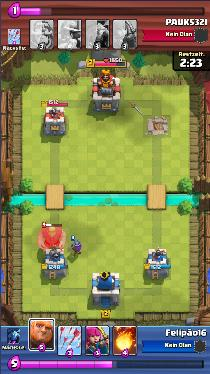ally_musketeer: (70, 240, 82, 256)
enemy_giant: (37, 224, 65, 249)
